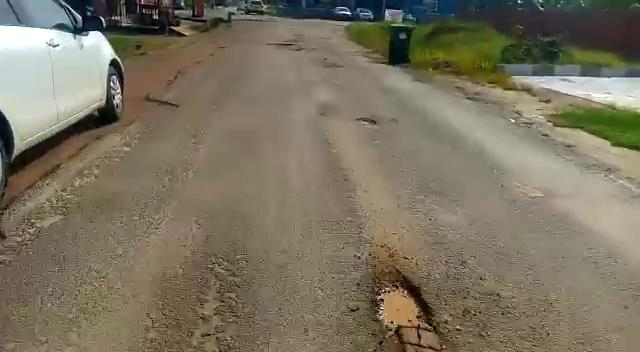pothole: (358, 266, 448, 348), (357, 116, 376, 128)
